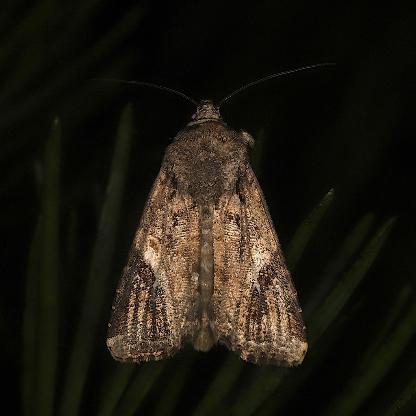Fall Armyworm Moth: (102, 60, 328, 372)
